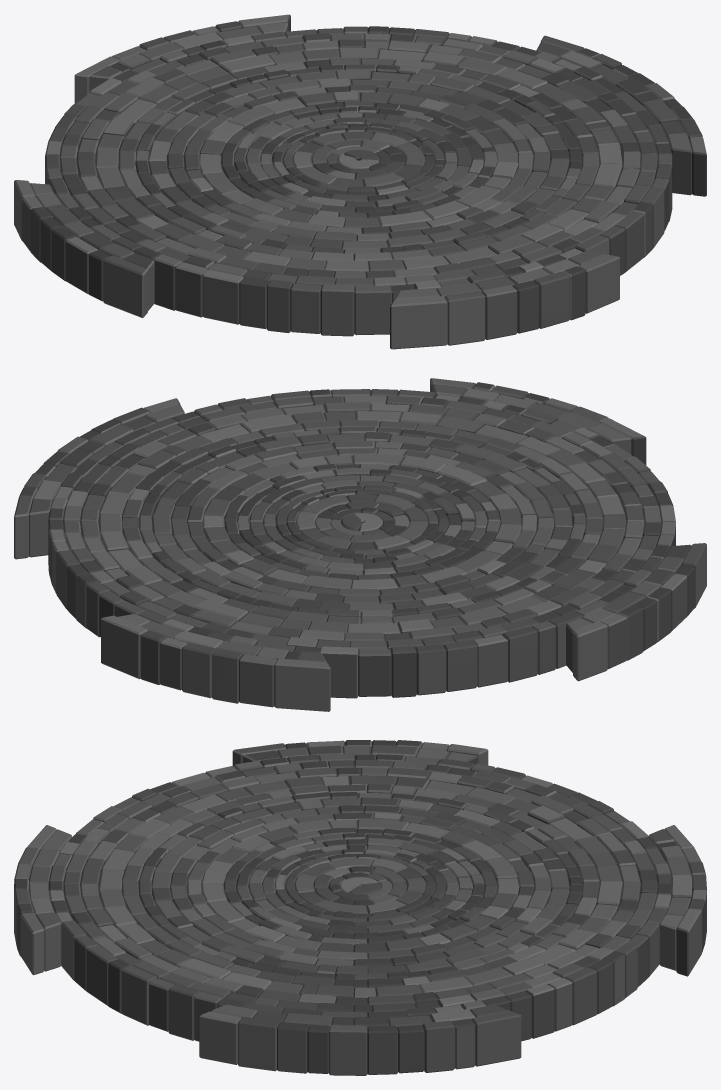
File: battlefield.fbx
The picture shows the model from 3 angles, top to bottom: view 1: azimuth 30°, elevation 25°; view 2: azimuth 150°, elevation 25°; view 3: azimuth 270°, elevation 25°; orthographic projection.
Parts seen in each view (by area): view 1: Wall.001; view 2: Wall.001; view 3: Wall.001.
Boxes of the visible parts, x1=… form: Wall.001: x1=14, y1=14, x2=706, y2=349; Wall.001: x1=14, y1=378, x2=706, y2=711; Wall.001: x1=14, y1=740, x2=706, y2=1075.
Size of the model in its own units: 3000 by 224 by 3001.
